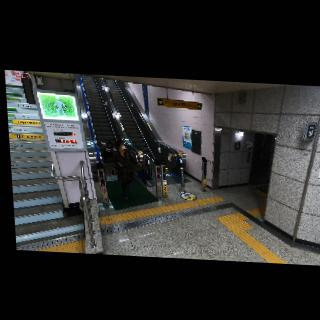anomaly: (96, 138, 119, 164)
normal: (113, 139, 145, 201)
